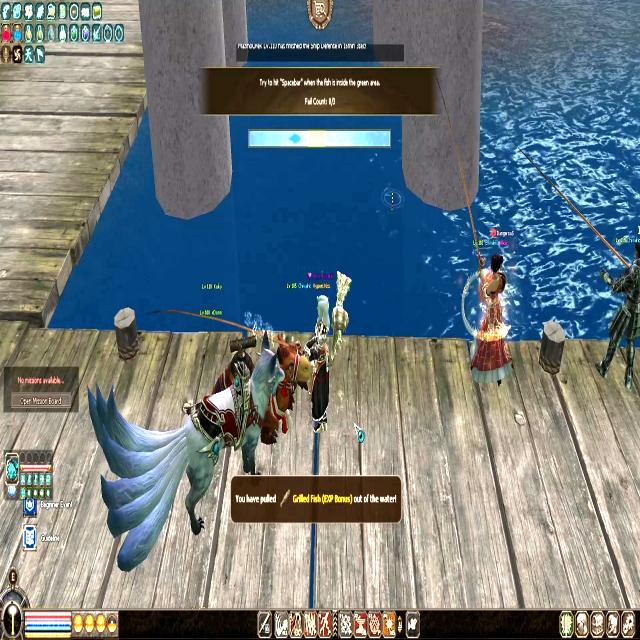fishes: (288, 131, 302, 146)
